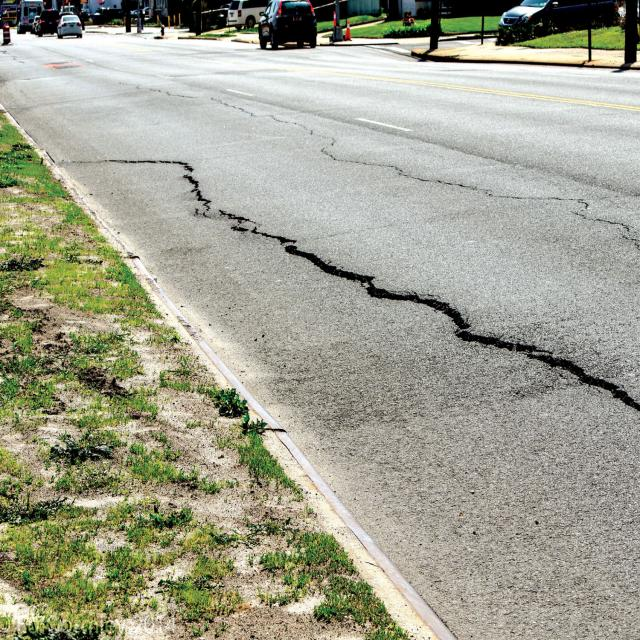Pothole: (4, 121, 640, 640)
